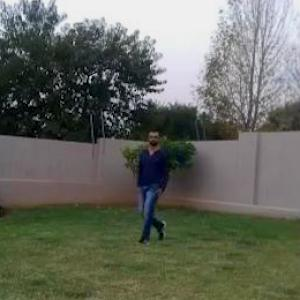follow: (134, 130, 167, 244)
